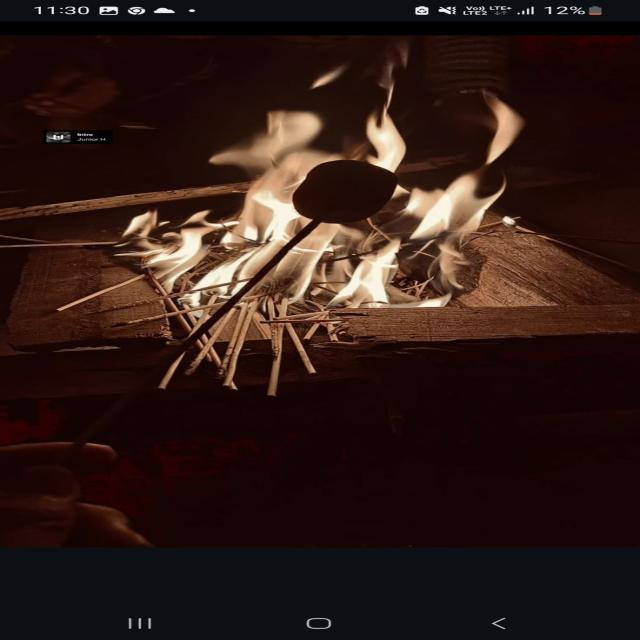fire: (119, 87, 527, 310)
